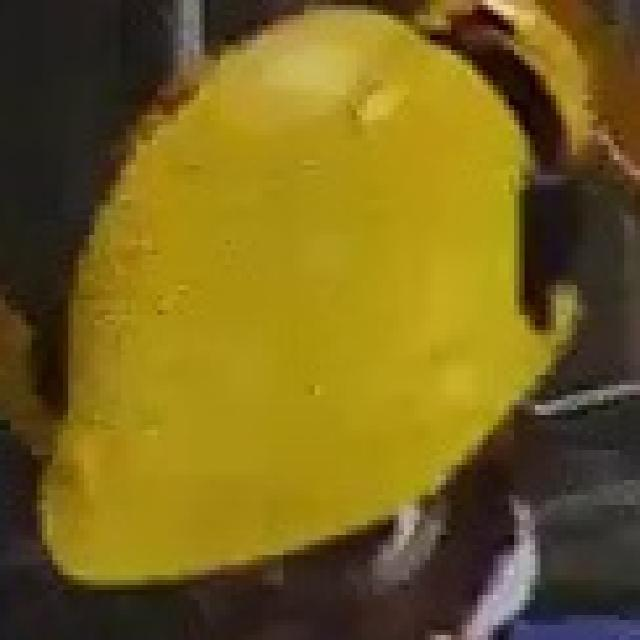yellow helmet: (42, 7, 585, 585)
